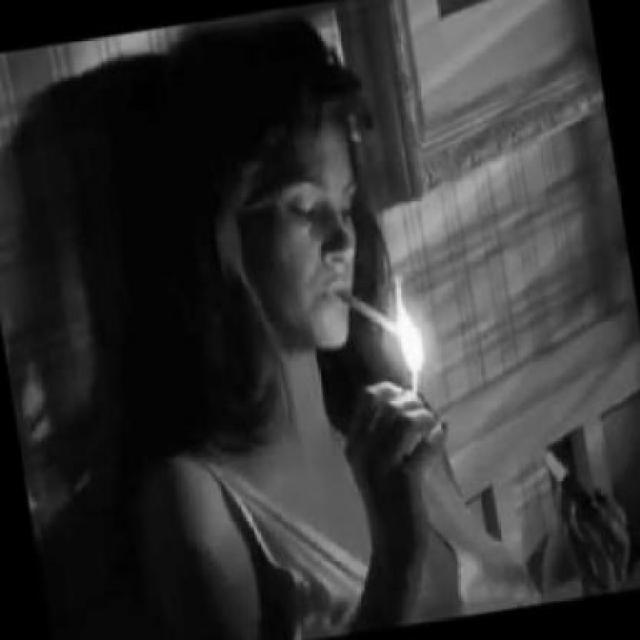cigarette: (331, 276, 402, 347)
